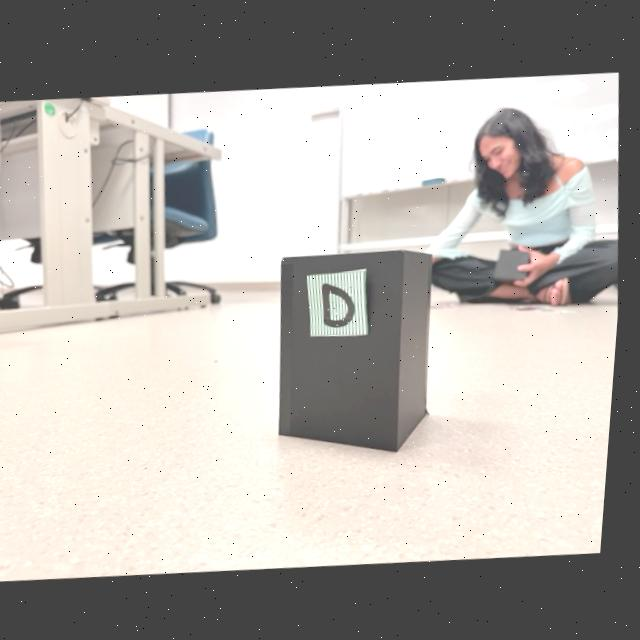D: (327, 281, 358, 325)
